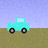vehicle: (7, 18, 29, 33)
